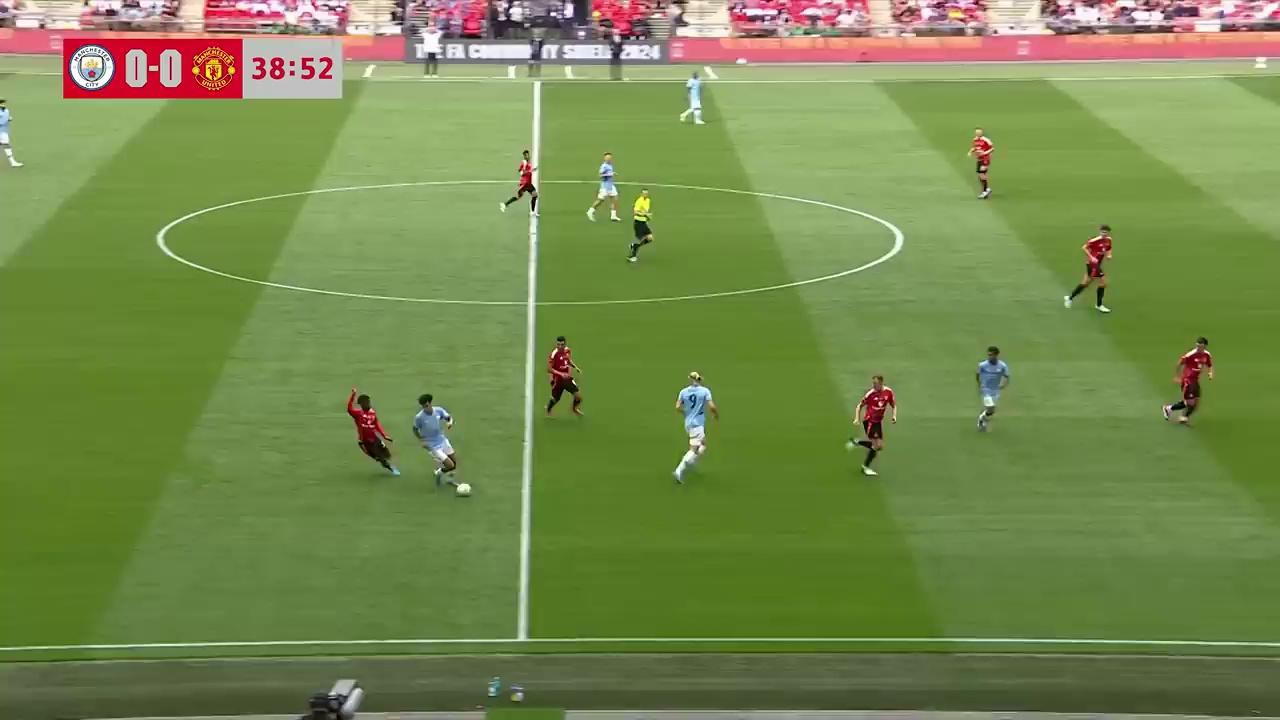ball: (454, 479, 472, 497)
player: (672, 369, 719, 484), (346, 387, 401, 476), (850, 374, 897, 474), (1162, 335, 1214, 425), (412, 393, 457, 492), (1064, 223, 1113, 313), (543, 335, 584, 419), (975, 345, 1009, 432), (587, 151, 620, 222), (500, 148, 536, 213), (967, 129, 993, 200), (0, 99, 22, 167), (680, 70, 705, 125)
referee: (628, 186, 654, 264)
